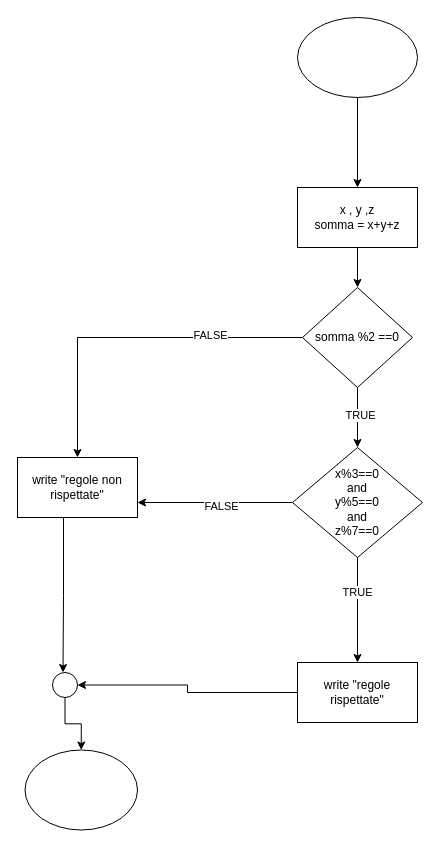
The diagram is 440 pixels wide and 848 high, and some of its shapes have lost their labels. The centre of each missing label's shape, as x and y in pixels:
FINE: the point at 81,789
INIZIO: the point at 357,57
